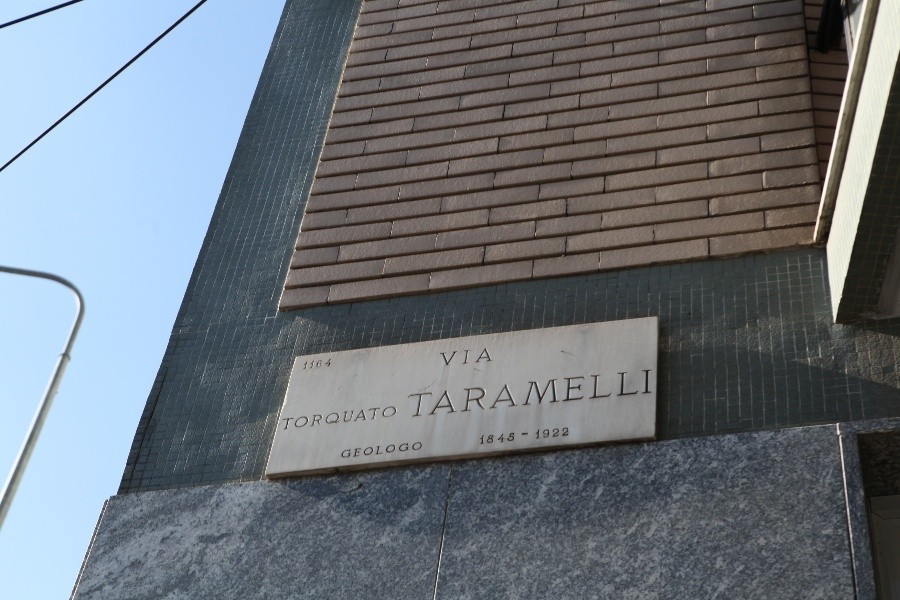text: (417, 367, 432, 419), (433, 367, 448, 419), (449, 367, 464, 419), (465, 367, 480, 419), (481, 367, 496, 419), (497, 367, 512, 419), (513, 367, 528, 419), (529, 367, 544, 419), (545, 367, 560, 419), (561, 367, 576, 419), (577, 367, 592, 419), (593, 367, 608, 419), (609, 367, 624, 419), (625, 367, 640, 419), (641, 367, 654, 419), (406, 367, 416, 419), (289, 405, 304, 431), (305, 405, 320, 431), (321, 405, 336, 431), (337, 405, 352, 431), (353, 405, 368, 431), (369, 405, 384, 431), (385, 405, 398, 431), (481, 424, 496, 445), (497, 424, 512, 445), (513, 424, 528, 445), (529, 424, 544, 445), (545, 424, 560, 445), (449, 347, 464, 367), (465, 347, 480, 367), (353, 441, 368, 460), (369, 441, 384, 460), (385, 441, 400, 460), (401, 441, 416, 460), (481, 347, 494, 367), (342, 441, 352, 460), (561, 424, 570, 445), (305, 358, 320, 370), (439, 347, 448, 367), (282, 405, 288, 431), (321, 358, 332, 370), (417, 441, 423, 460), (479, 424, 480, 445)
